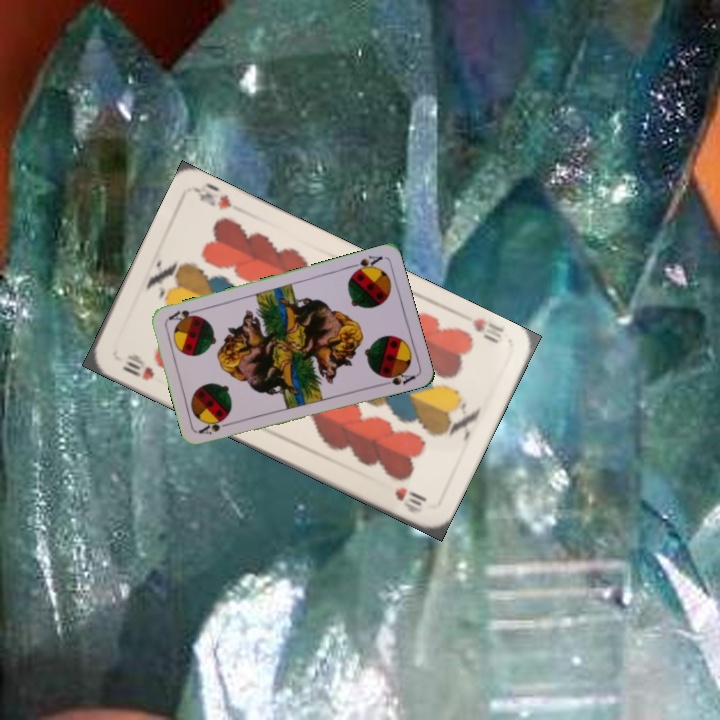H10: (117, 350, 157, 383), (469, 313, 506, 347)
SA: (345, 251, 385, 277), (195, 418, 236, 437)
